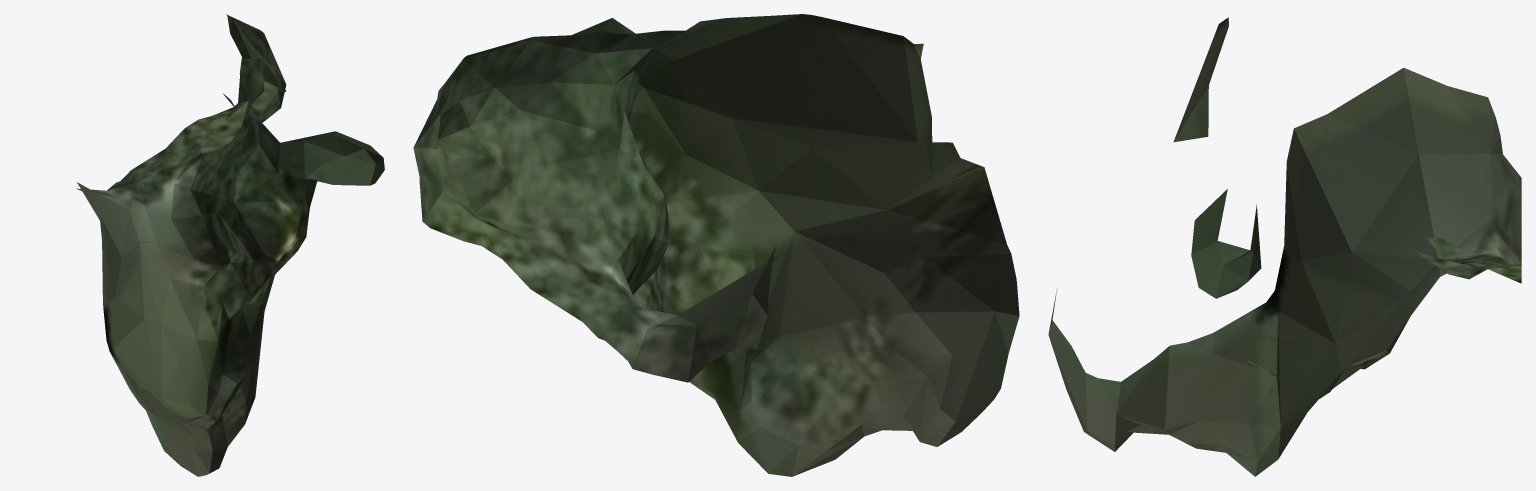
3 views of the same model, side by side, from view 1: azimuth 30°, elevation 25°; view 2: azimuth 150°, elevation 25°; view 3: azimuth 270°, elevation 25° (orthographic). The views are drawn at different scales.
Bounding box in the file's own units: 4.54 × 5.2 × 5.43.
1 material, 1 textured.
